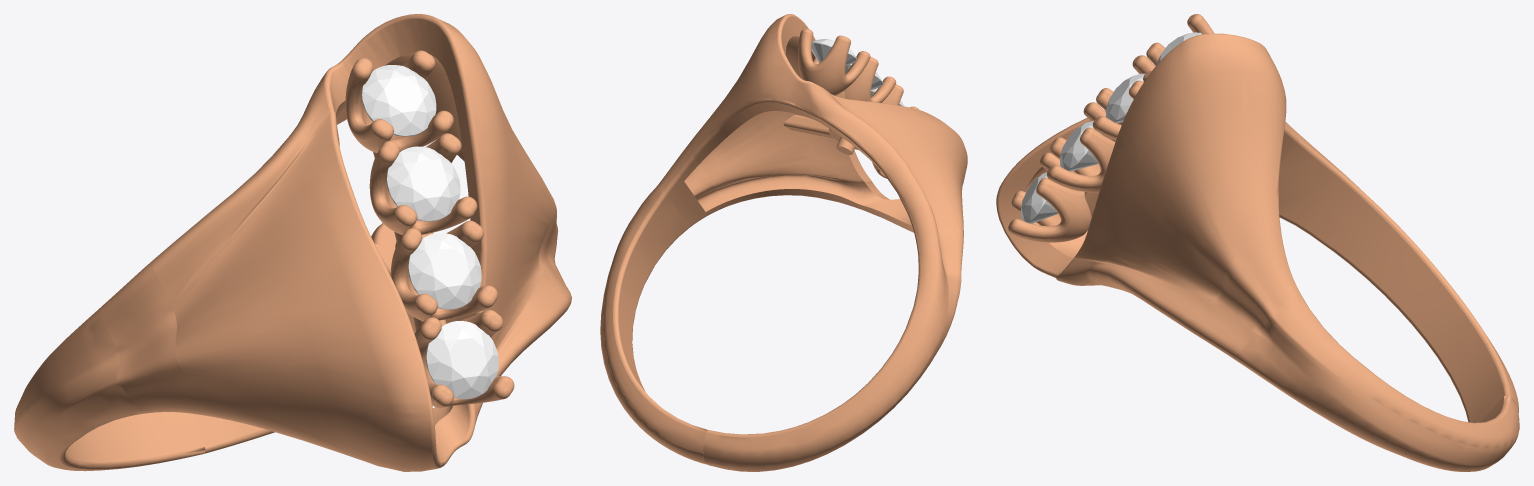
Rendered from unpacked-demo-ring.gltf.
3 views of the same model, side by side, from view 1: azimuth 30°, elevation 25°; view 2: azimuth 150°, elevation 25°; view 3: azimuth 270°, elevation 25° (orthographic). The views are drawn at different scales.
Parts seen in each view (by area): view 1: structure, Diamond_2, Diamond_4, Diamond, Diamond_3; view 2: structure, Diamond_3; view 3: structure, Diamond_4, Diamond_2, Diamond.
Boxes of the visible parts, left/top/right/bottom form: structure: left=14, top=14, right=571, bottom=471; Diamond_2: left=426, top=321, right=498, bottom=399; Diamond_4: left=408, top=233, right=481, bottom=309; Diamond: left=386, top=146, right=460, bottom=221; Diamond_3: left=361, top=65, right=436, bottom=136; structure: left=600, top=14, right=967, bottom=471; Diamond_3: left=811, top=39, right=857, bottom=65; structure: left=996, top=14, right=1519, bottom=471; Diamond_4: left=1060, top=120, right=1100, bottom=171; Diamond_2: left=1020, top=172, right=1057, bottom=223; Diamond: left=1105, top=73, right=1145, bottom=123.
Size of the model in its own units: 2.18 by 2.27 by 2.47.
